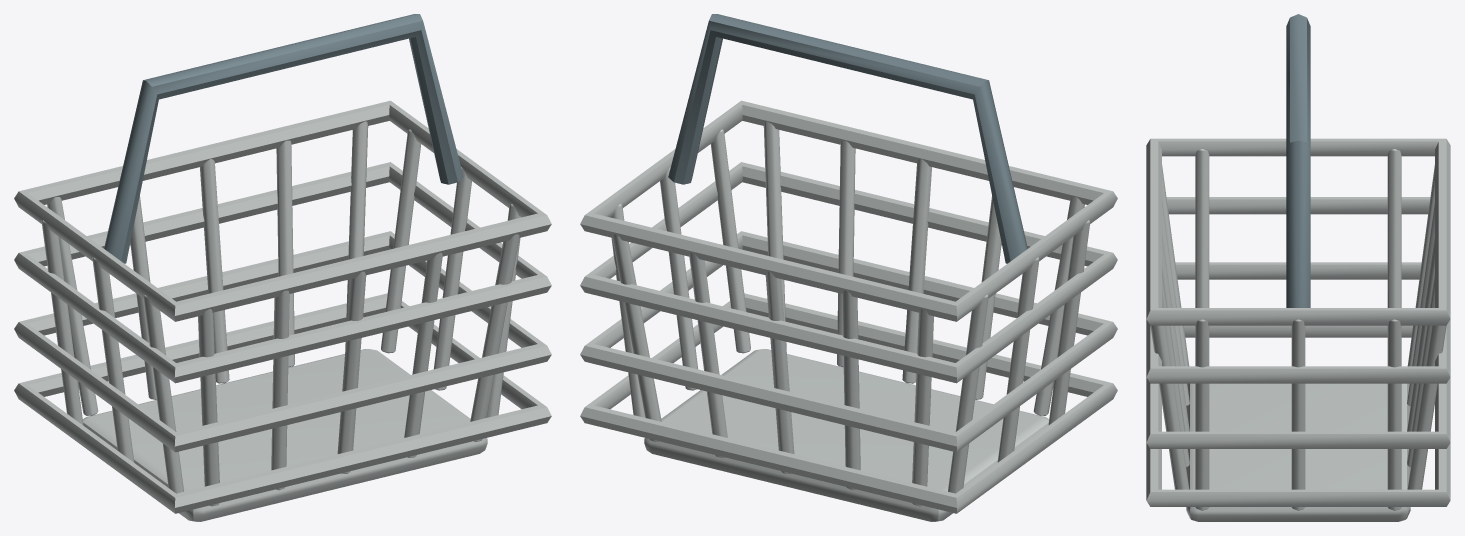
File: shopping-basket.glb
3 views of the same model, side by side, from view 1: azimuth 30°, elevation 25°; view 2: azimuth 150°, elevation 25°; view 3: azimuth 270°, elevation 25° (orthographic). The views are drawn at different scales.
Parts seen in each view (by area): view 1: basket_floor, basket_rail.003, basket_rail.002, basket_rail.001, basket_rail, carry_handle, basket_slat.004, basket_end_slat.003, basket_slat.006, basket_end_slat.004, basket_slat.009, basket_end_slat (+10 smaller); view 2: basket_floor, basket_rail.003, basket_rail.002, basket_rail.001, basket_rail, carry_handle, basket_slat.005, basket_end_slat.005, basket_slat.007, basket_end_slat.004, basket_slat.008, basket_end_slat.002 (+10 smaller); view 3: basket_floor, basket_rail.003, basket_rail.001, basket_rail.002, basket_rail, carry_handle, basket_end_slat, basket_end_slat.002, basket_end_slat.003, basket_end_slat.005, basket_end_slat.004, basket_slat.008 (+9 smaller).
Part boxes in pixels (box(x1,y1,x2,y2)): basket_floor: box(83, 349, 487, 521); basket_rail.003: box(14, 100, 551, 321); basket_rail.002: box(14, 162, 551, 383); basket_rail.001: box(14, 231, 551, 452); basket_rail: box(14, 293, 551, 513); carry_handle: box(104, 14, 463, 263); basket_slat.004: box(200, 159, 229, 383); basket_end_slat.003: box(381, 129, 421, 353); basket_slat.006: box(276, 140, 294, 367); basket_end_slat.004: box(434, 167, 471, 390); basket_slat.009: box(470, 234, 519, 441); basket_end_slat: box(41, 220, 83, 424); basket_floor: box(644, 349, 1048, 521); basket_rail.003: box(580, 100, 1117, 321); basket_rail.002: box(580, 162, 1117, 383); basket_rail.001: box(580, 231, 1117, 452); basket_rail: box(580, 293, 1117, 513); carry_handle: box(668, 14, 1027, 263); basket_slat.005: box(902, 159, 931, 383); basket_end_slat.005: box(710, 129, 750, 353); basket_slat.007: box(837, 140, 855, 367); basket_end_slat.004: box(660, 167, 697, 390); basket_slat.008: box(612, 234, 661, 441); basket_end_slat.002: box(1048, 220, 1090, 424); basket_floor: box(1186, 383, 1410, 521); basket_rail.003: box(1146, 138, 1450, 325); basket_rail.001: box(1146, 262, 1450, 448); basket_rail.002: box(1146, 197, 1450, 383); basket_rail: box(1146, 325, 1450, 506); carry_handle: box(1286, 14, 1310, 307); basket_end_slat: box(1387, 149, 1401, 307); basket_end_slat.002: box(1195, 149, 1209, 307); basket_end_slat.003: box(1387, 319, 1401, 510); basket_end_slat.005: box(1195, 319, 1209, 510); basket_end_slat.004: box(1291, 319, 1305, 510); basket_slat.008: box(1407, 307, 1446, 489).
Size of the model in its own units: 0.5173 by 0.5234 by 0.3795.
